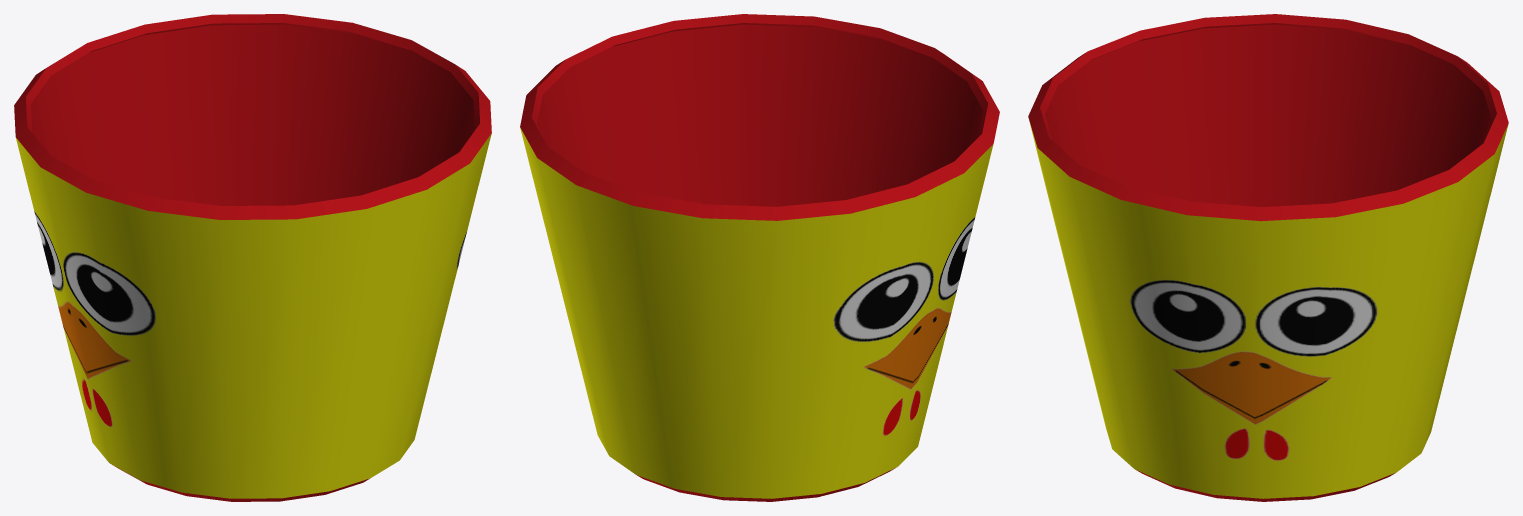
The model's file is cup.fbx.
The picture shows the model from 3 angles, left to right: view 1: azimuth 30°, elevation 25°; view 2: azimuth 150°, elevation 25°; view 3: azimuth 270°, elevation 25°; orthographic projection.
Visible parts, largest first — view 1: pCylinder8; view 2: pCylinder8; view 3: pCylinder8.
Boxes of the visible parts, x1,y1,x2,y2 form: pCylinder8: (14,14,491,501); pCylinder8: (520,14,999,501); pCylinder8: (1028,14,1508,501).
Bounding box in the file's own units: 7.57 × 5.69 × 7.57.
